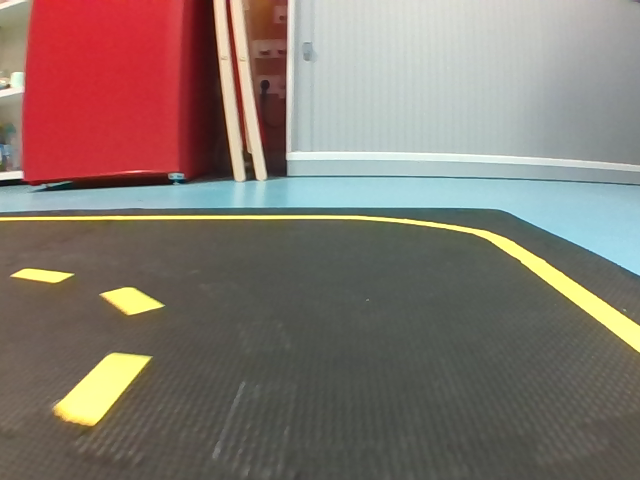stop: (64, 64, 132, 157)
